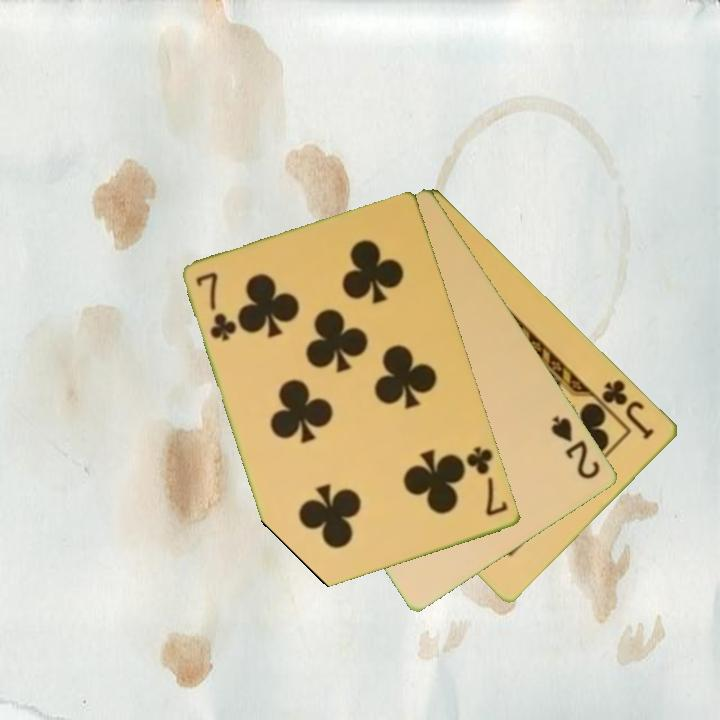2s: (547, 412, 604, 483)
7c: (463, 443, 511, 519), (193, 269, 240, 345)
Jc: (599, 375, 658, 443)
